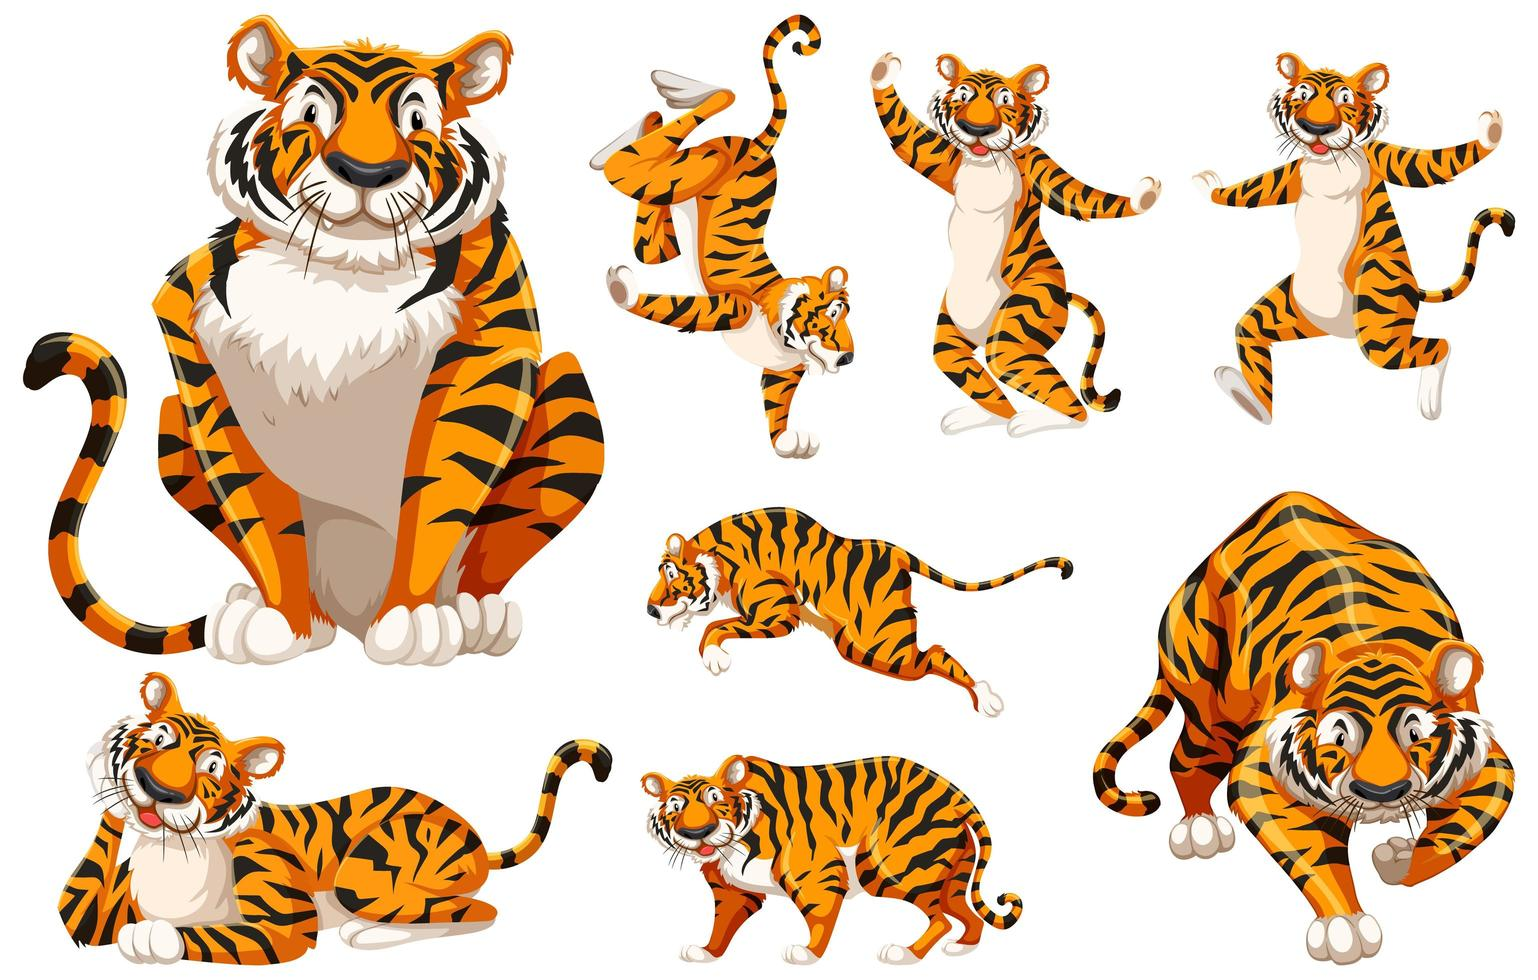Tigrew: (40, 25, 628, 696), (1100, 499, 1513, 979), (59, 683, 628, 972), (1195, 33, 1510, 457), (871, 36, 1140, 494), (613, 43, 870, 483), (634, 503, 1080, 745), (615, 750, 1044, 972)
